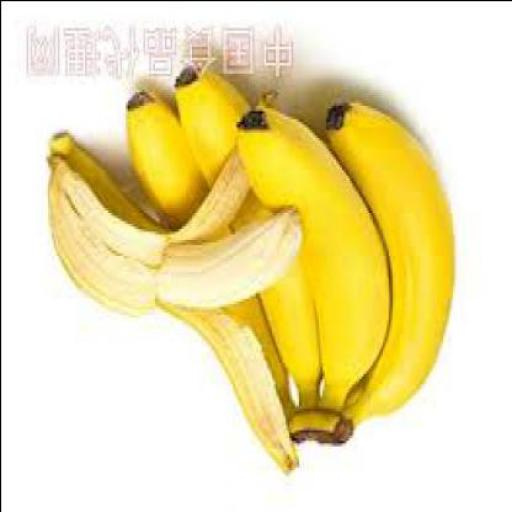biodegradable: (48, 131, 306, 477), (125, 94, 296, 429), (171, 64, 324, 416), (236, 107, 393, 423), (328, 101, 456, 445)
